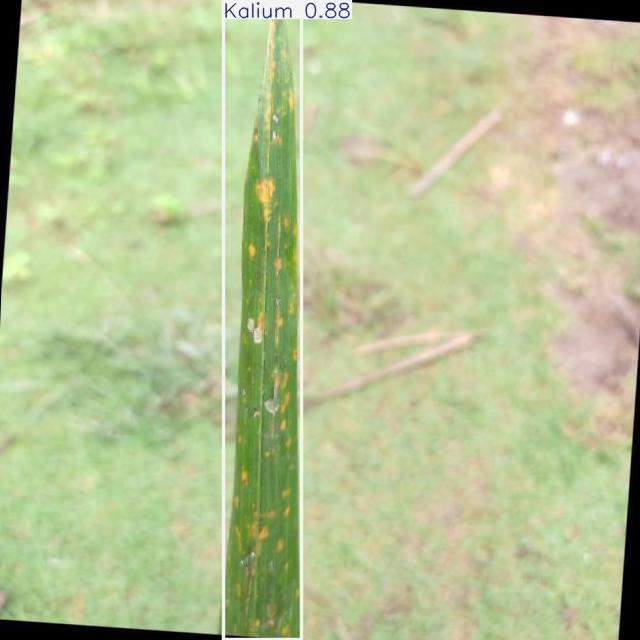Kalium: (223, 0, 302, 640)
